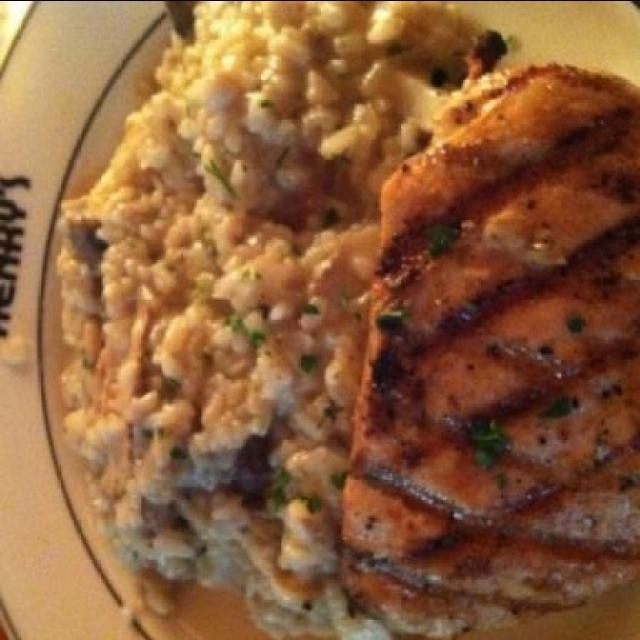Risotto: (59, 1, 372, 619)
